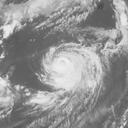cyclone: (41, 42, 100, 92)
